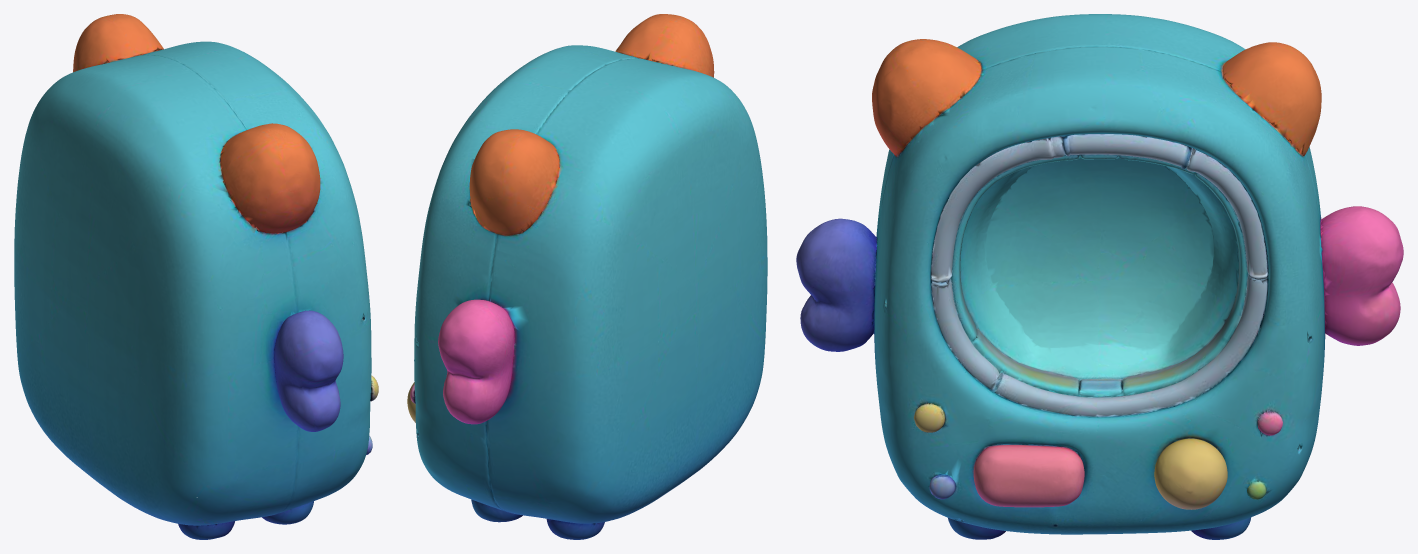
The model's file is env_nest_jukebox_01.glb.
3 renders of one model, left to right at view 1: azimuth 30°, elevation 25°; view 2: azimuth 150°, elevation 25°; view 3: azimuth 270°, elevation 25°, orthographic. The views are drawn at different scales.
Parts seen in each view (by area): view 1: tripo_node_eefc0b0e-0ea3-40f1-8038-138f4f430c27; view 2: tripo_node_eefc0b0e-0ea3-40f1-8038-138f4f430c27; view 3: tripo_node_eefc0b0e-0ea3-40f1-8038-138f4f430c27.
Part boxes in pixels (x1=…): tripo_node_eefc0b0e-0ea3-40f1-8038-138f4f430c27: x1=14, y1=14, x2=378, y2=539; tripo_node_eefc0b0e-0ea3-40f1-8038-138f4f430c27: x1=407, y1=14, x2=767, y2=539; tripo_node_eefc0b0e-0ea3-40f1-8038-138f4f430c27: x1=796, y1=14, x2=1403, y2=539.
Size of the model in its own units: 0.9955 by 1.6 by 1.89.
1 material, 1 textured.
